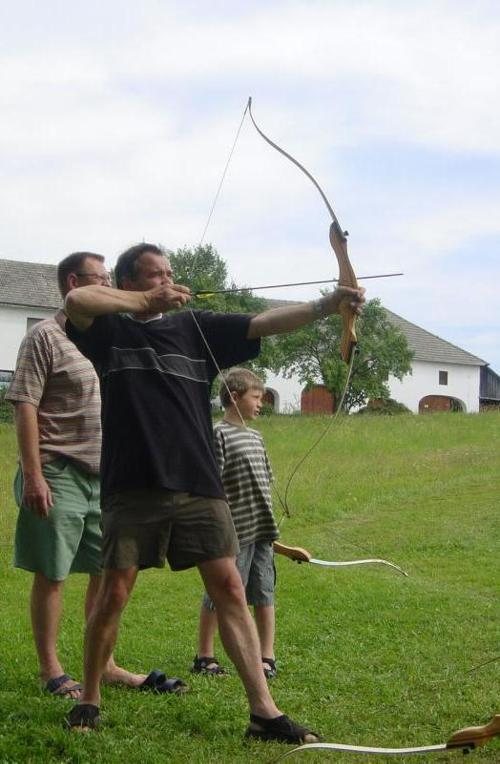person: (63, 242, 367, 749)
